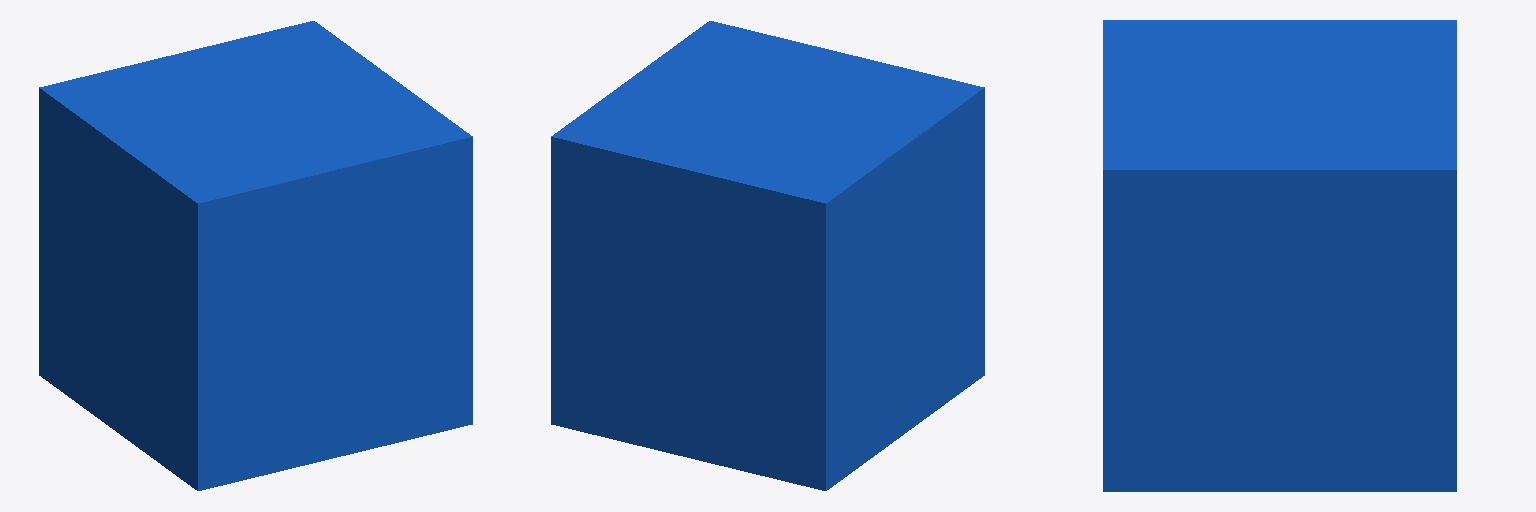
robot.urdf — generic_cube:
<?xml version="1.0"?>
<robot name="generic_cube">
  <link name="base_link">
    <inertial>
      <origin xyz="0 0 0" rpy="0 0 0"/>
      <mass value="1.0"/>
      <inertia ixx="0.001666667" ixy="0" ixz="0"
               iyy="0.001666667" iyz="0" izz="0.001666667"/>
    </inertial>
    <visual>
      <origin xyz="0 0 0" rpy="0 0 0"/>
      <geometry>
        <box size="0.1 0.1 0.1"/>
      </geometry>
      <material name="modsim_blue">
        <color rgba="0.15 0.45 0.85 1.0"/>
      </material>
    </visual>
    <collision>
      <origin xyz="0 0 0" rpy="0 0 0"/>
      <geometry>
        <box size="0.1 0.1 0.1"/>
      </geometry>
    </collision>
  </link>
</robot>

--- What the picture shows (computed from the rendered views, not written in the file) ---
The picture shows the robot from 3 angles, left to right: view 1: azimuth 30°, elevation 25°; view 2: azimuth 150°, elevation 25°; view 3: azimuth 270°, elevation 25°; orthographic projection.
Model generic_cube with 1 links and 0 joints (none), rooted at base_link, posed all joints at 0.
Links seen in each view (by area): view 1: base_link; view 2: base_link; view 3: base_link.
Boxes of the visible links, x1,y1,x2,y2 form: base_link: (39,21,472,490); base_link: (551,21,984,490); base_link: (1103,20,1456,491).
Bounding box of the posed robot: 0.1 × 0.1 × 0.1 m (x, y, z).
Geometry: primitives only (box / cylinder / sphere), no mesh files.
